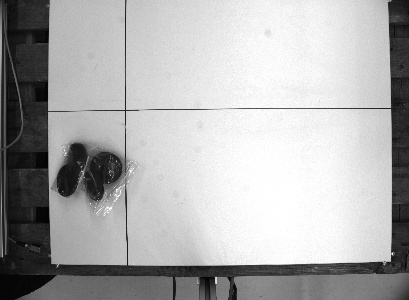t1: (49, 136, 143, 220)
